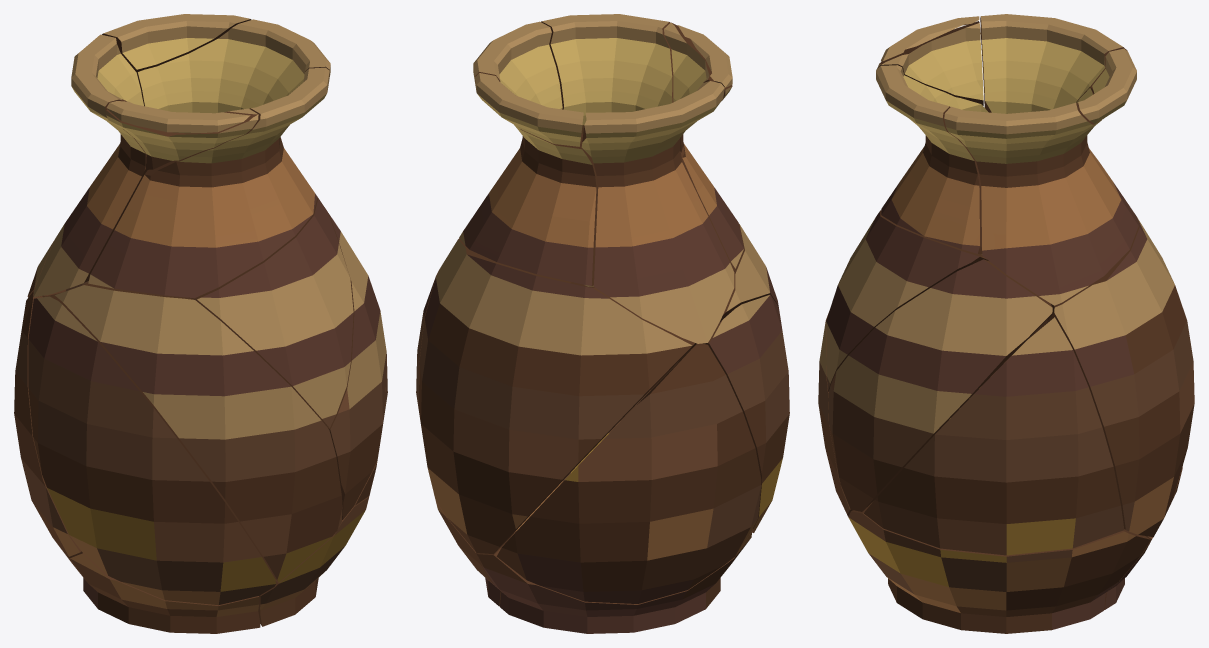
The model's file is fractured_vase_003.glb.
3 renders of one model, left to right at view 1: azimuth 30°, elevation 25°; view 2: azimuth 150°, elevation 25°; view 3: azimuth 270°, elevation 25°, orthographic.
Parts seen in each view (by area): view 1: VaseF.003_cell; view 2: VaseF.003_cell; view 3: VaseF.003_cell.
Part boxes in pixels (x1,y1,x2,y2): VaseF.003_cell: (14, 14, 387, 633); VaseF.003_cell: (416, 14, 789, 633); VaseF.003_cell: (818, 14, 1194, 633).
Bounding box in the file's own units: 0.1652 × 0.25 × 0.1652.
